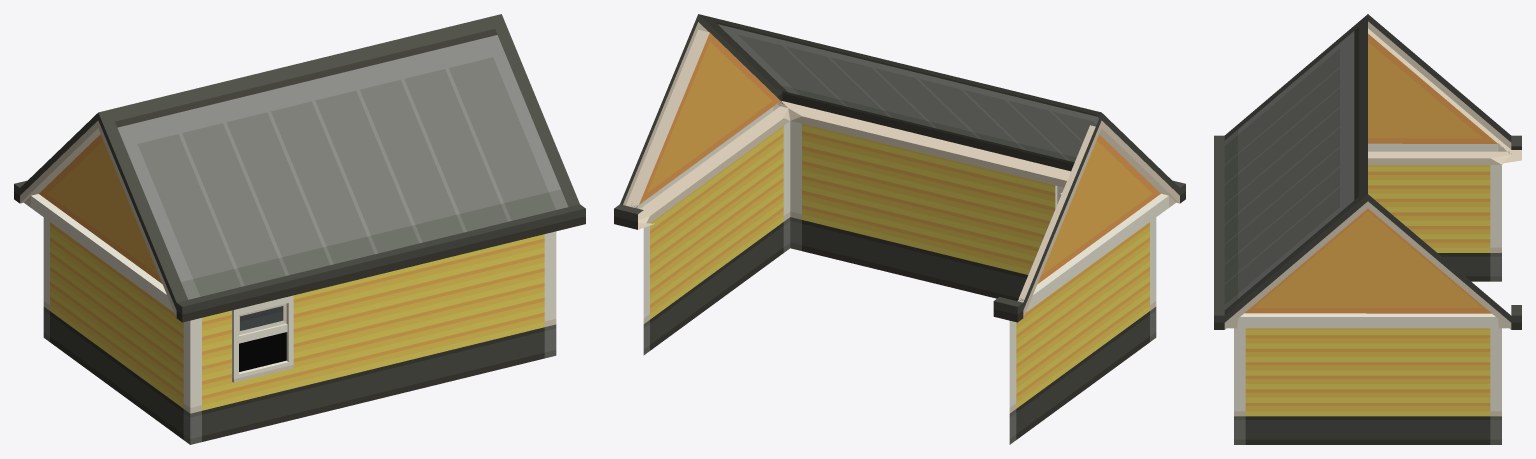
The model's file is house.glb.
The picture shows the model from 3 angles, left to right: view 1: azimuth 30°, elevation 25°; view 2: azimuth 150°, elevation 25°; view 3: azimuth 270°, elevation 25°; orthographic projection. The views are drawn at different scales.
Parts seen in each view (by area): view 1: roof, house; view 2: house, roof; view 3: roof, house.
Part boxes in pixels (<box>): roof: <box>14,14,585,322</box>; house: <box>43,217,556,444</box>; house: <box>638,101,1156,444</box>; roof: <box>614,14,1185,322</box>; roof: <box>1214,14,1521,329</box>; house: <box>1234,150,1521,444</box>.
Bounding box in the file's own units: 13.5 × 9.06 × 9.75.
Materials: 1 (1 with a texture image).
